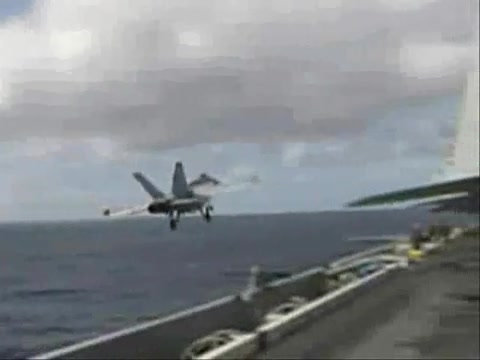aeroplane: (104, 162, 259, 233)
